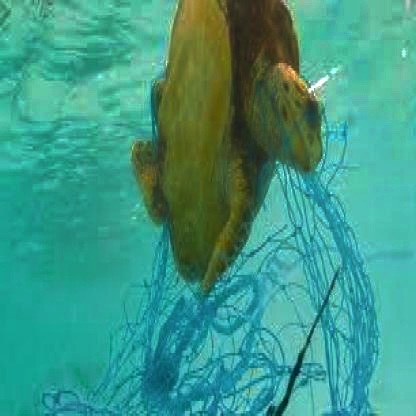net: (117, 154, 376, 416)
